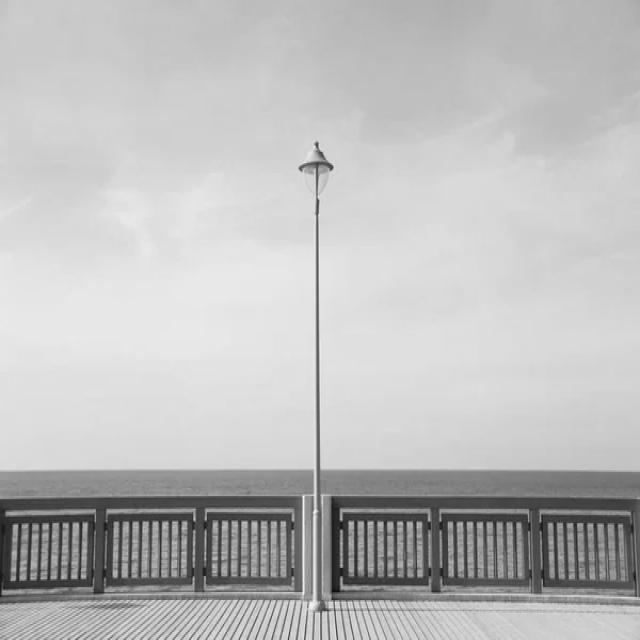Pole: (300, 141, 334, 612)
